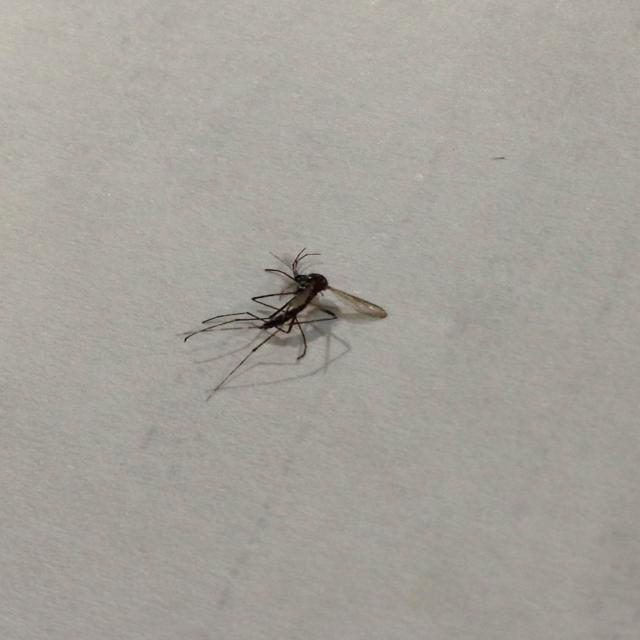albopictus: (180, 242, 391, 396)
